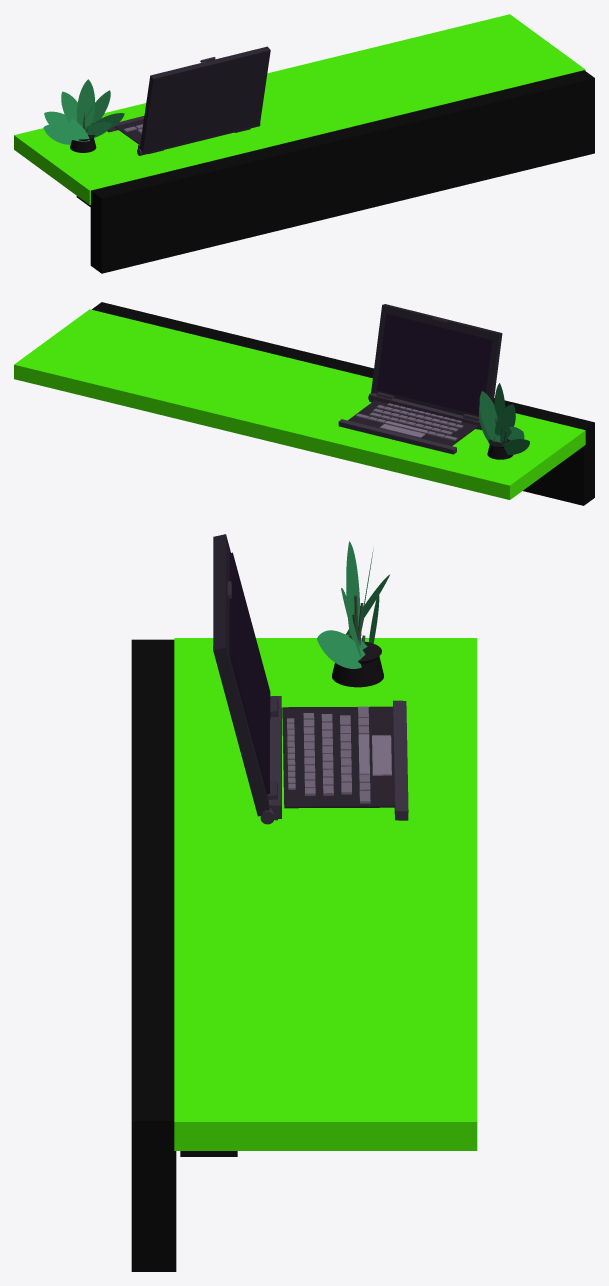
File: Desk.glb
The picture shows the model from 3 angles, top to bottom: view 1: azimuth 30°, elevation 25°; view 2: azimuth 150°, elevation 25°; view 3: azimuth 270°, elevation 25°; orthographic projection. The views are drawn at different scales.
Parts seen in each view (by area): view 1: desk_front_panel, desk_top, laptop_screen_back_panel, plant_leaf_1, plant_leaf_3, plant_leaf_2, plant_leaf_4; view 2: desk_top, laptop_screen_dark_display, desk_front_panel, laptop_screen_back_panel, laptop_keyboard_deck, laptop_base_front_lip, laptop_screen_bottom_bezel, plant_leaf_4, plant_leaf_2, plant_leaf_6; view 3: desk_top, desk_front_panel, laptop_keyboard_deck, laptop_screen_dark_display, laptop_screen_back_panel, laptop_base_front_lip, plant_leaf_5, laptop_screen_bottom_bezel, plant_pot.
Boxes of the visible parts, x1,y1,x2,y2 form: desk_front_panel: (90, 70, 594, 273); desk_top: (14, 14, 585, 204); laptop_screen_back_panel: (139, 46, 270, 153); plant_leaf_1: (44, 111, 89, 141); plant_leaf_3: (77, 79, 94, 134); plant_leaf_2: (61, 91, 77, 122); plant_leaf_4: (82, 90, 110, 124); desk_top: (14, 309, 585, 499); laptop_screen_dark_display: (376, 314, 492, 415); desk_front_panel: (92, 302, 594, 505); laptop_screen_back_panel: (371, 304, 502, 416); laptop_keyboard_deck: (348, 400, 478, 445); laptop_base_front_lip: (338, 419, 456, 454); laptop_screen_bottom_bezel: (369, 393, 481, 430); plant_leaf_4: (479, 391, 500, 442); plant_leaf_2: (495, 404, 515, 441); plant_leaf_6: (502, 439, 529, 454); desk_top: (174, 638, 477, 1150); desk_front_panel: (131, 639, 176, 1271); laptop_keyboard_deck: (282, 706, 395, 808); laptop_screen_dark_display: (229, 552, 270, 794); laptop_screen_back_panel: (213, 534, 269, 816); laptop_base_front_lip: (393, 700, 408, 820); plant_leaf_5: (317, 630, 365, 668); laptop_screen_bottom_bezel: (271, 696, 281, 818); plant_pot: (332, 656, 383, 687).
Size of the model in its own units: 3.58 by 1.14 by 1.08.
